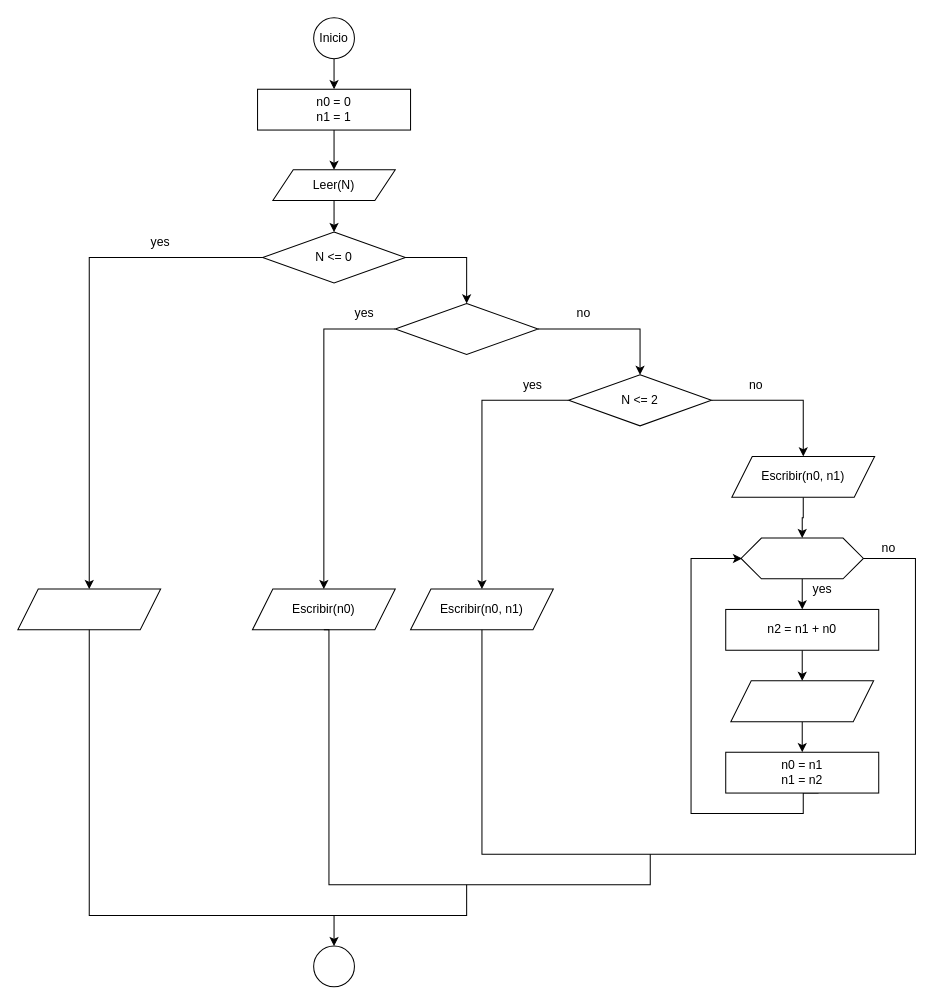
The diagram is 934 pixels wide and 1005 high, and some of its shapes have lost their labels. The centre of each missing label's shape, as x and y in pixels:
Escribir("ERROR"): the point at 89,609
Escribir(n2): the point at 802,701
Fin: the point at 333,966
i = 3,N,1: the point at 801,558
N == 1: the point at 466,328
